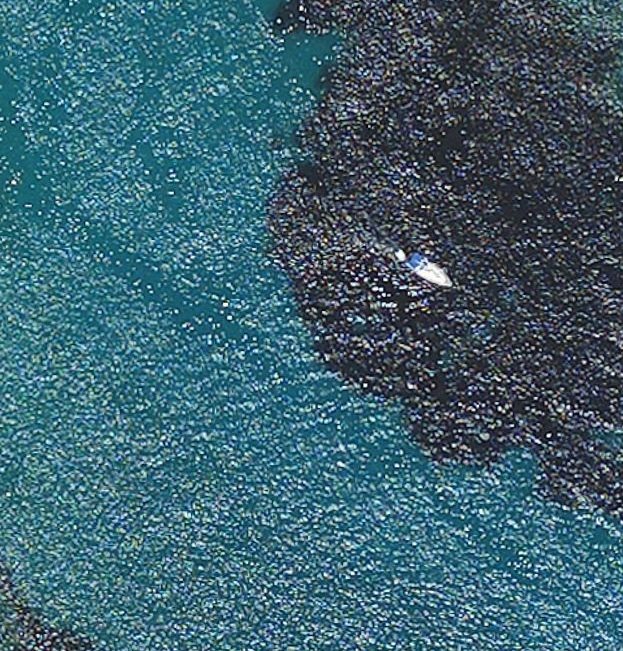ship: (392, 243, 456, 292)
